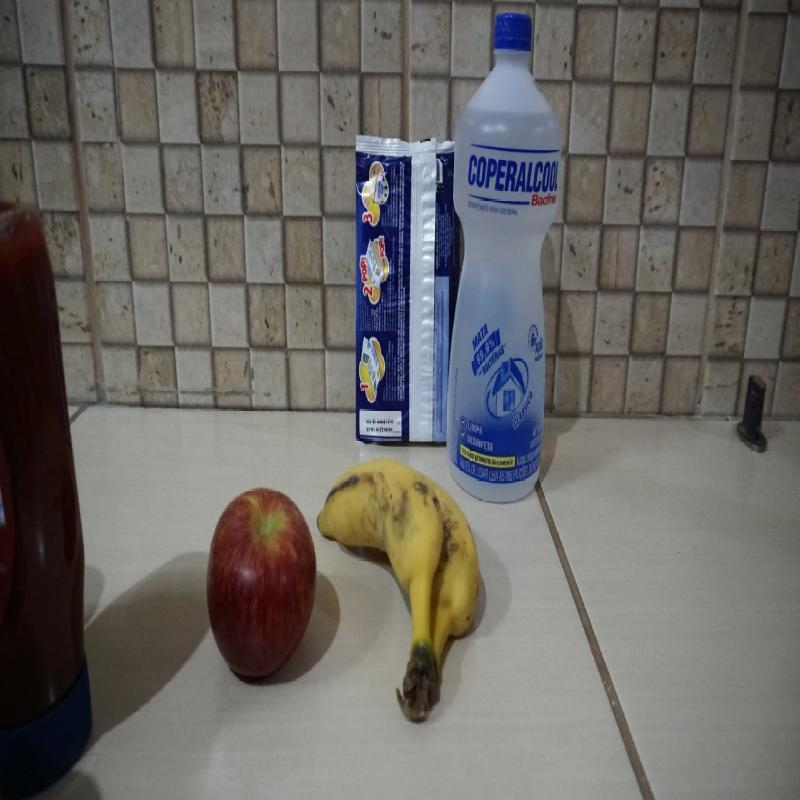Alcohol Bottle: (444, 11, 564, 506)
Apple: (206, 487, 318, 685)
Banana: (315, 461, 480, 726)
Ketchup: (0, 197, 96, 798)
Popcorn: (352, 138, 460, 450)
